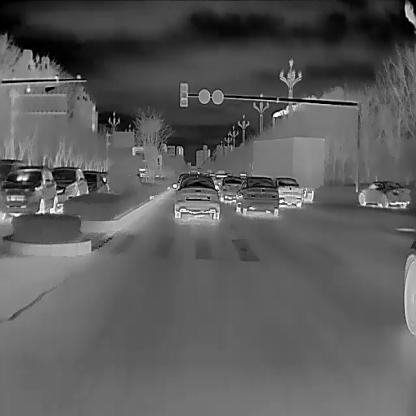car: (0, 167, 55, 212), (170, 173, 218, 220), (237, 176, 278, 217), (49, 166, 89, 207), (358, 180, 410, 208), (273, 176, 300, 208), (81, 171, 108, 200), (219, 176, 243, 202), (1, 157, 24, 182)
truck: (250, 138, 324, 202), (132, 146, 161, 178)
